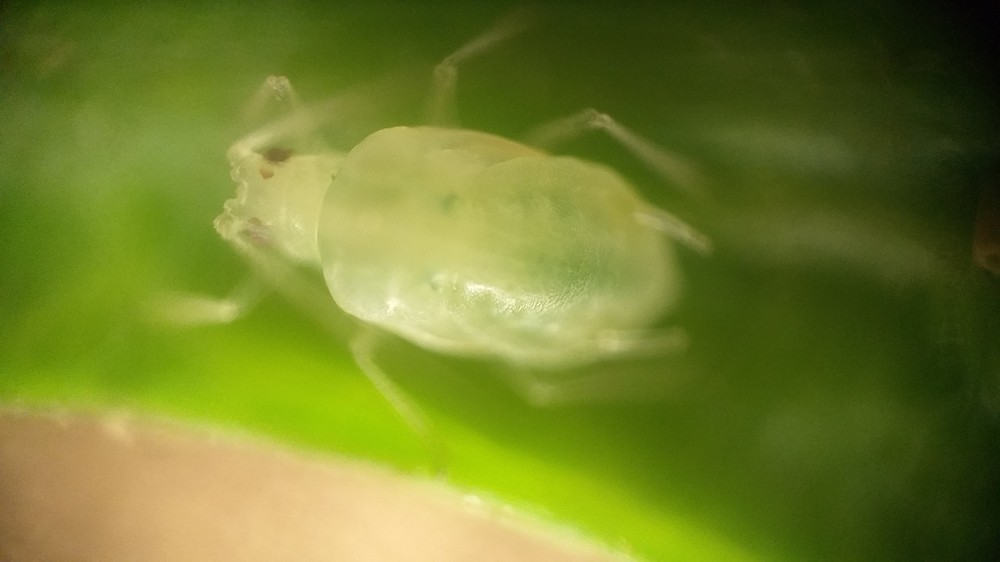Pulgon: (156, 13, 799, 465)
